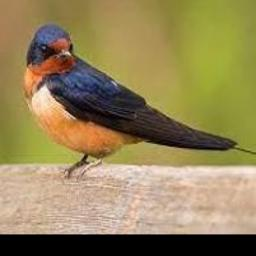Swallow: (22, 25, 256, 180)
